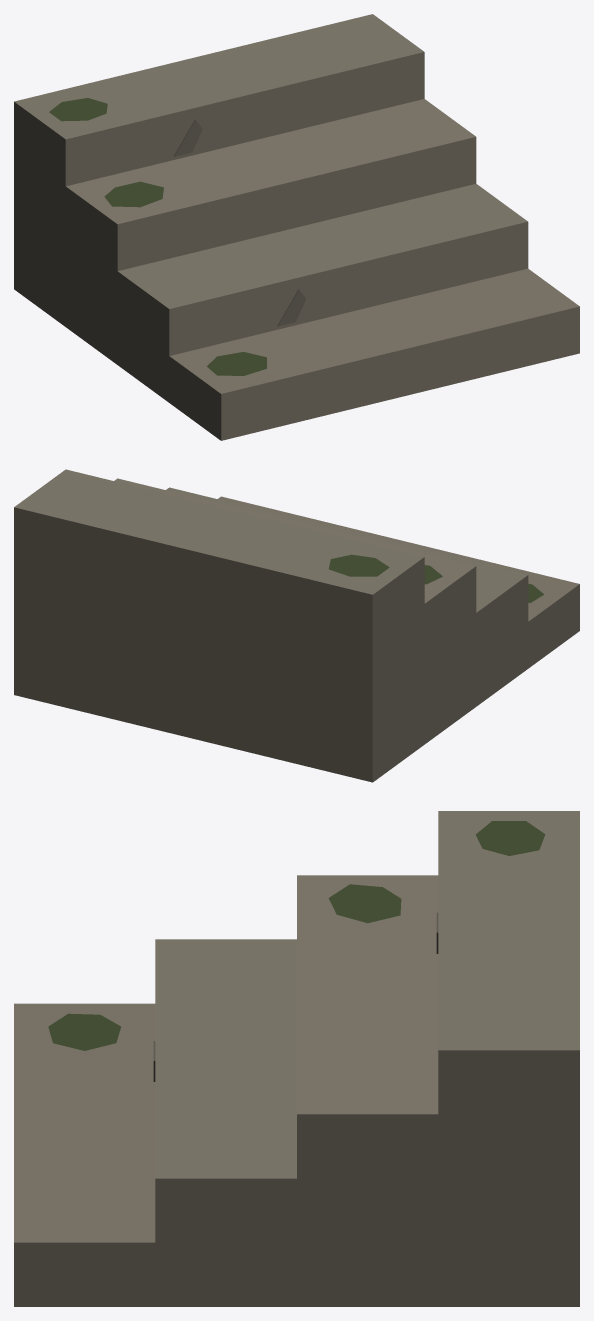
File: stair_mossy_2m.glb
3 renders of one model, top to bottom at view 1: azimuth 30°, elevation 25°; view 2: azimuth 150°, elevation 25°; view 3: azimuth 270°, elevation 25°, orthographic. The views are drawn at different scales.
Parts seen in each view (by area): view 1: Body_stair_mossy_2m.002; view 2: Body_stair_mossy_2m.002; view 3: Body_stair_mossy_2m.002.
Part boxes in pixels (<box>): Body_stair_mossy_2m.002: <box>14,14,579,440</box>; Body_stair_mossy_2m.002: <box>14,469,579,782</box>; Body_stair_mossy_2m.002: <box>14,811,579,1306</box>.
Bounding box in the file's own units: 2 × 1 × 2.
